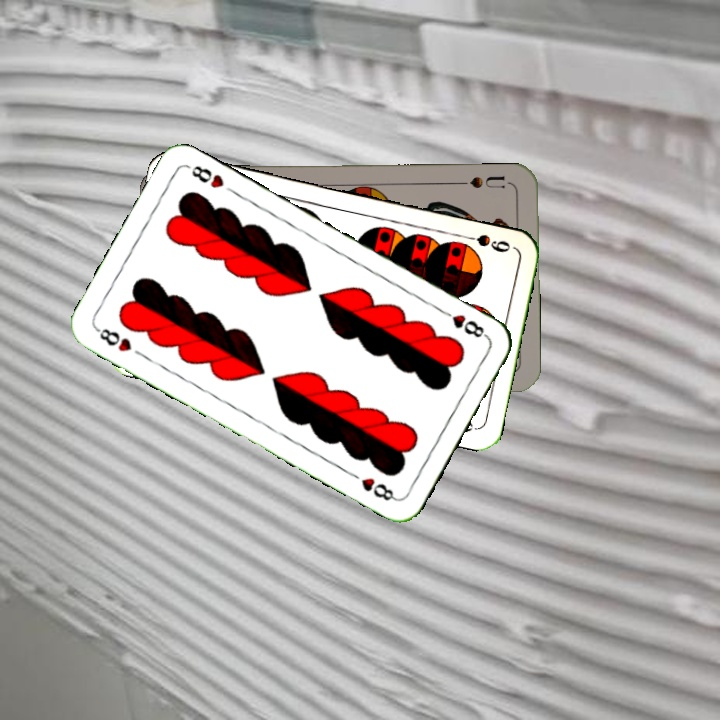H8: (436, 305, 490, 341), (92, 324, 135, 355)
S9: (456, 230, 513, 255)
SU: (454, 171, 513, 191)
